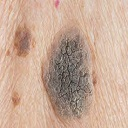Melanoma: (45, 35, 96, 119), (14, 26, 31, 56)
